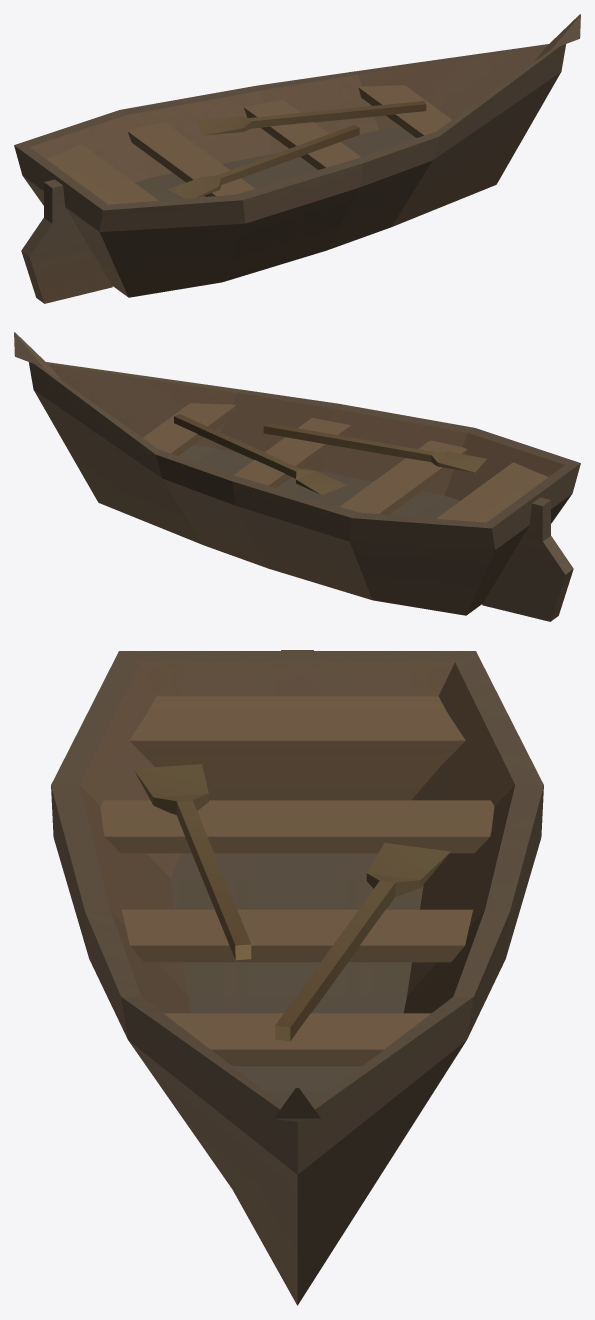
The model's file is Boat_2_LOD1.fbx.
3 views of the same model, one above another, from view 1: azimuth 30°, elevation 25°; view 2: azimuth 150°, elevation 25°; view 3: azimuth 270°, elevation 25° (orthographic). The views are drawn at different scales.
Visible parts, largest first — view 1: polySurface9688; view 2: polySurface9688; view 3: polySurface9688.
Boxes of the visible parts, x1,y1,x2,y2 form: polySurface9688: [14, 14, 580, 303]; polySurface9688: [14, 332, 580, 621]; polySurface9688: [51, 650, 543, 1305].
Bounding box in the file's own units: 510 × 136 × 196.
